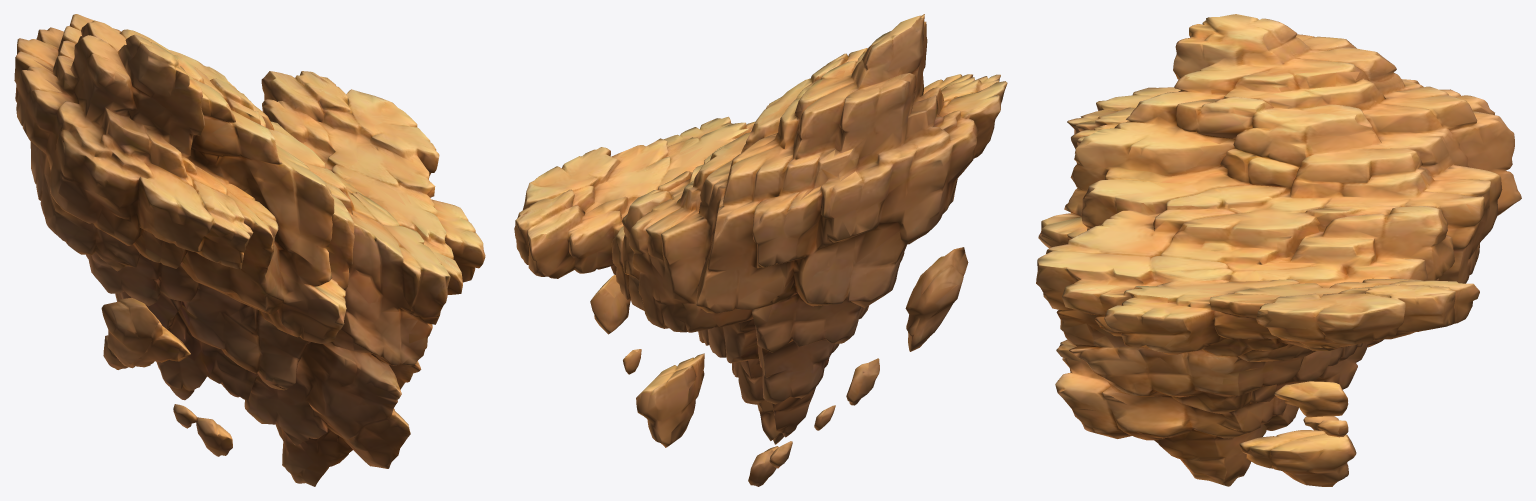
Rendered from R1_Island_Crag.fbx.
3 renders of one model, left to right at view 1: azimuth 30°, elevation 25°; view 2: azimuth 150°, elevation 25°; view 3: azimuth 270°, elevation 25°, orthographic. The views are drawn at different scales.
Visible parts, largest first — view 1: R1_Island_Crag; view 2: R1_Island_Crag; view 3: R1_Island_Crag.
Boxes of the visible parts, x1,y1,x2,y2 form: R1_Island_Crag: (14, 14, 485, 486); R1_Island_Crag: (514, 14, 1007, 486); R1_Island_Crag: (1036, 14, 1521, 486).
Size of the model in its own units: 1200 by 1400 by 1500.
1 material, 1 textured.
